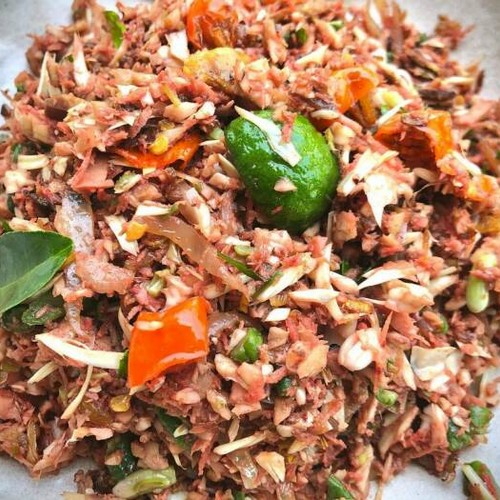lawar: (73, 230, 486, 469)
